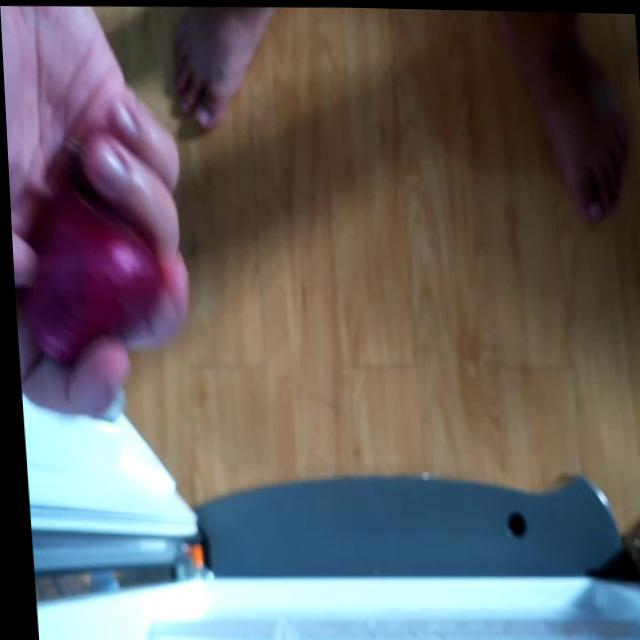onion: (16, 178, 158, 354)
